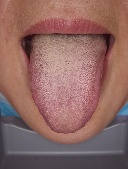tongue: (26, 37, 108, 135)
